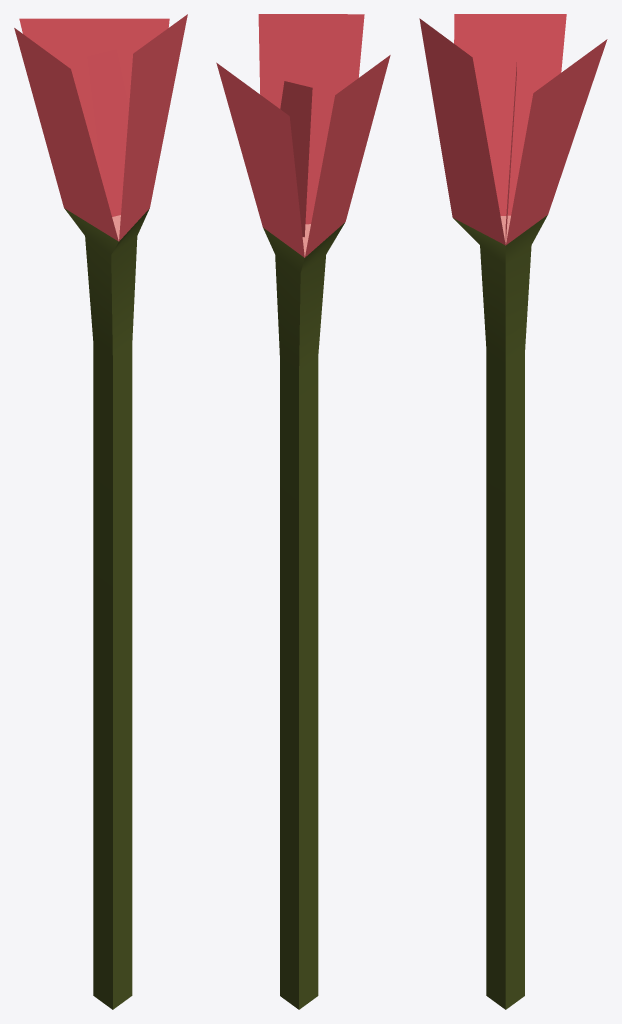
Rendered from flower_tulip_single.fbx.
The picture shows the model from 3 angles, left to right: view 1: azimuth 30°, elevation 25°; view 2: azimuth 150°, elevation 25°; view 3: azimuth 270°, elevation 25°; orthographic projection. The views are drawn at different scales.
Parts seen in each view (by area): view 1: pCylinder9; view 2: pCylinder9; view 3: pCylinder9.
Part boxes in pixels (x1,y1,x2,y2): pCylinder9: (14,14,187,1009); pCylinder9: (216,14,390,1009); pCylinder9: (419,14,607,1009).
Bounding box in the file's own units: 24.51 × 166 × 29.18.
